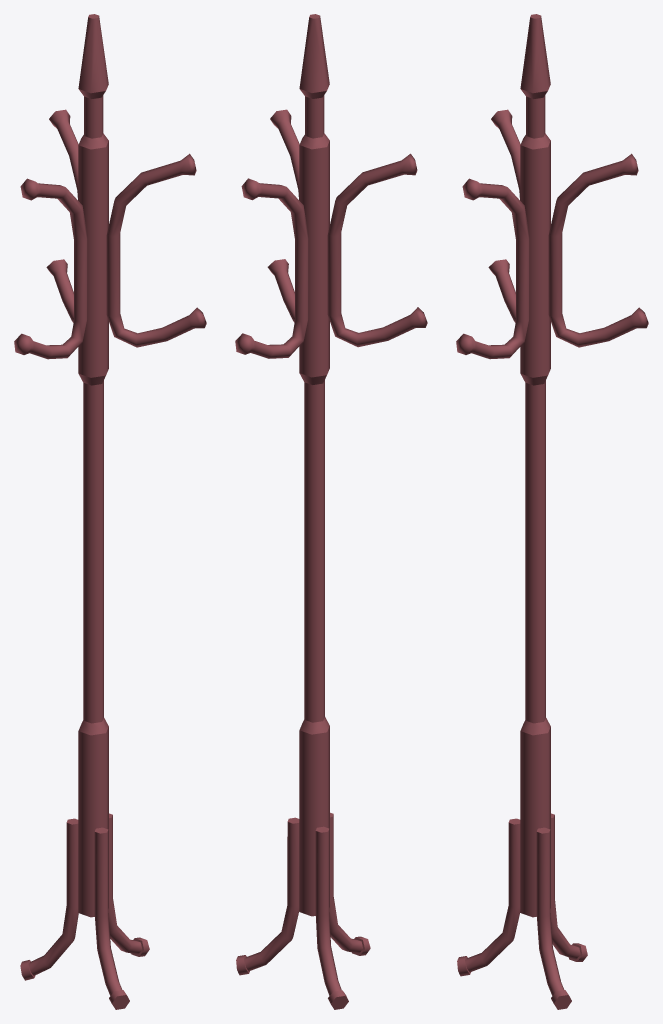
Rendered from SM_Coat_Hanger_1_01.fbx.
3 renders of one model, left to right at view 1: azimuth 30°, elevation 25°; view 2: azimuth 150°, elevation 25°; view 3: azimuth 270°, elevation 25°, orthographic.
Parts seen in each view (by area): view 1: SM_Coat_Hanger_1_01; view 2: SM_Coat_Hanger_1_01; view 3: SM_Coat_Hanger_1_01.
Part boxes in pixels (left/top/right/bottom): SM_Coat_Hanger_1_01: left=14, top=14, right=206, bottom=1009; SM_Coat_Hanger_1_01: left=235, top=14, right=427, bottom=1009; SM_Coat_Hanger_1_01: left=456, top=14, right=648, bottom=1009.
Bounding box in the file's own units: 42.82 × 229 × 41.28.
